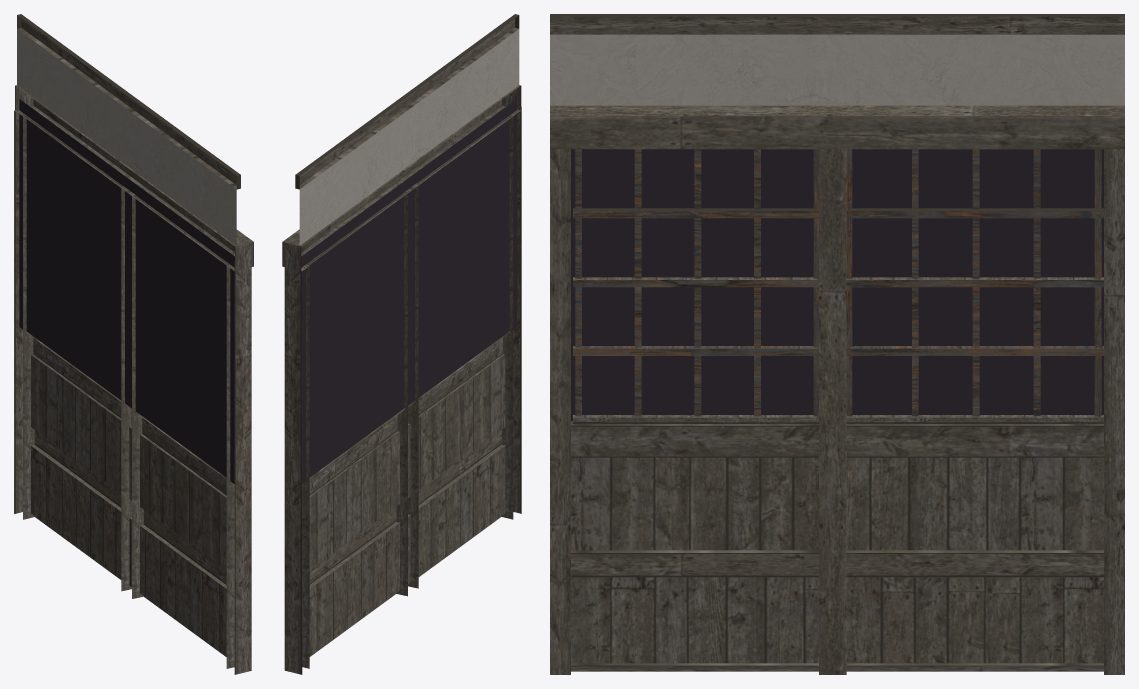
File: Wall2.fbx
3 renders of one model, left to right at view 1: azimuth 30°, elevation 25°; view 2: azimuth 150°, elevation 25°; view 3: azimuth 270°, elevation 25°, orthographic. The views are drawn at different scales.
Parts seen in each view (by area): view 1: outer wall duble; view 2: outer wall duble; view 3: outer wall duble.
Part boxes in pixels (x1,y1,x2,y2): outer wall duble: (14,14,253,674); outer wall duble: (282,14,521,674); outer wall duble: (550,14,1124,674).
Bounding box in the file's own units: 21.01 × 500 × 400.
